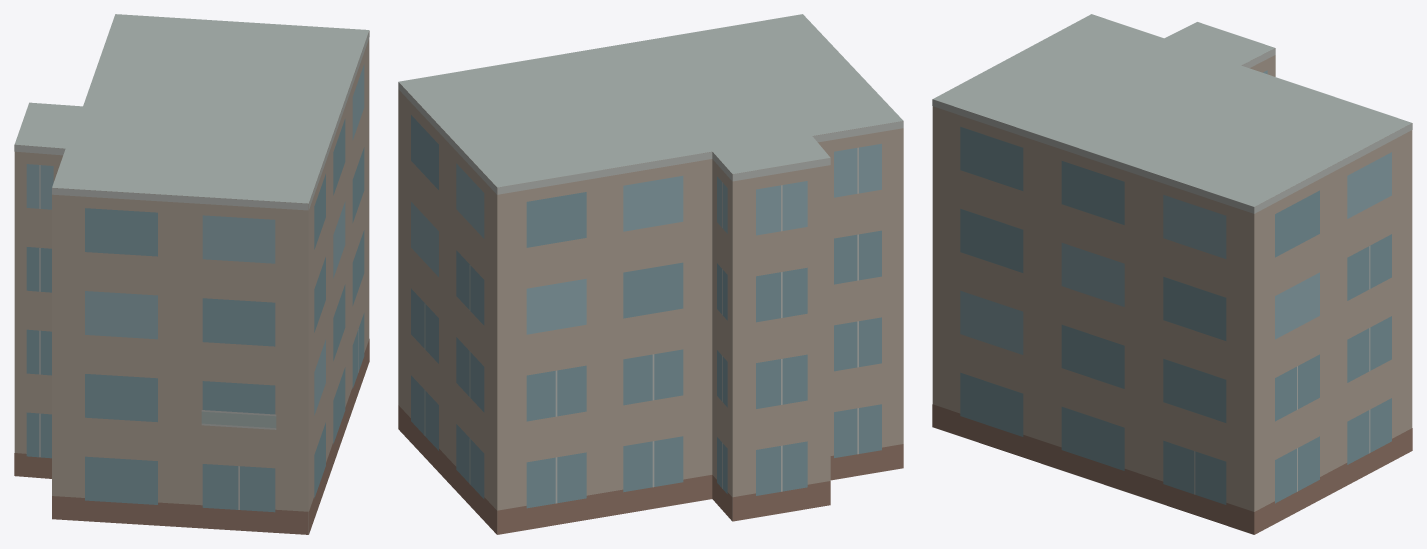
File: survey-upis-32719599.glb
3 views of the same model, side by side, from view 1: azimuth 30°, elevation 25°; view 2: azimuth 150°, elevation 25°; view 3: azimuth 270°, elevation 25° (orthographic). The views are drawn at different scales.
Parts seen in each view (by area): view 1: survey-upis-32719599.tmp; view 2: survey-upis-32719599.tmp; view 3: survey-upis-32719599.tmp.
Boxes of the visible parts, box(x1,y1,x2,y2) form: survey-upis-32719599.tmp: box(14, 14, 369, 534); survey-upis-32719599.tmp: box(398, 14, 903, 534); survey-upis-32719599.tmp: box(932, 14, 1412, 534).
Bounding box in the file's own units: 14.66 × 11.6 × 15.4.
